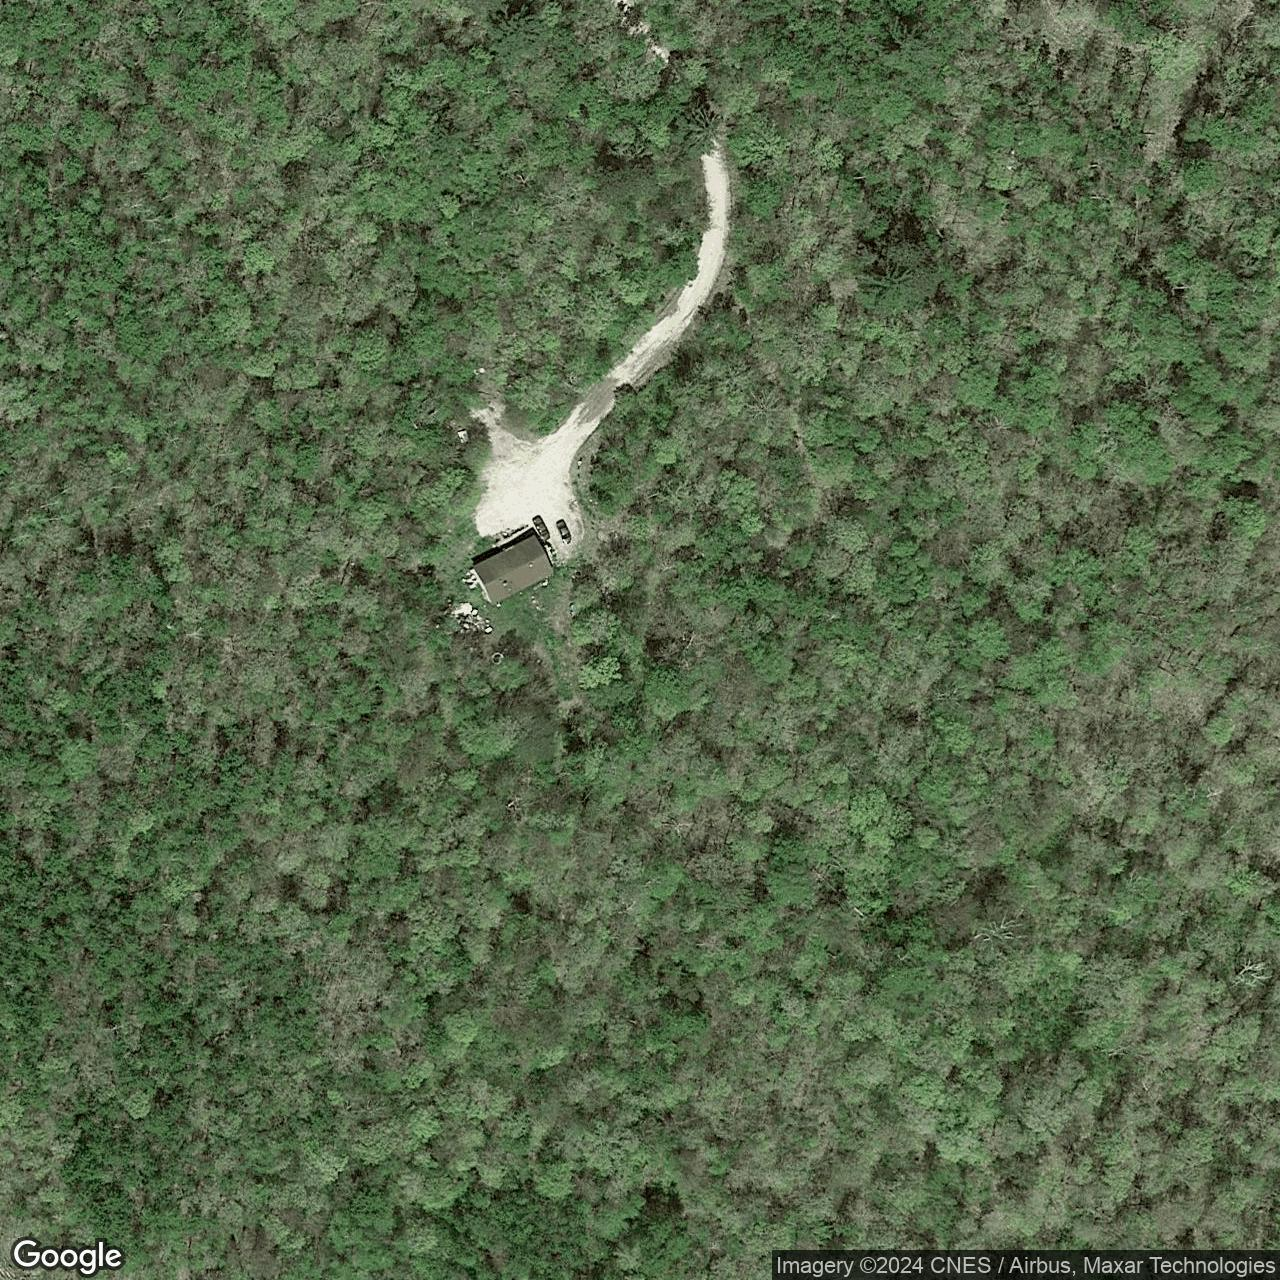House: (468, 530, 556, 607)
